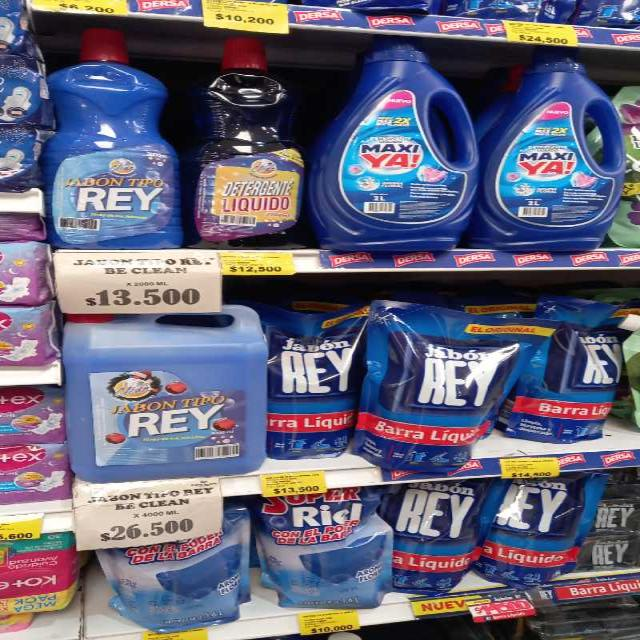Jabon_rey: (63, 287, 267, 481)
